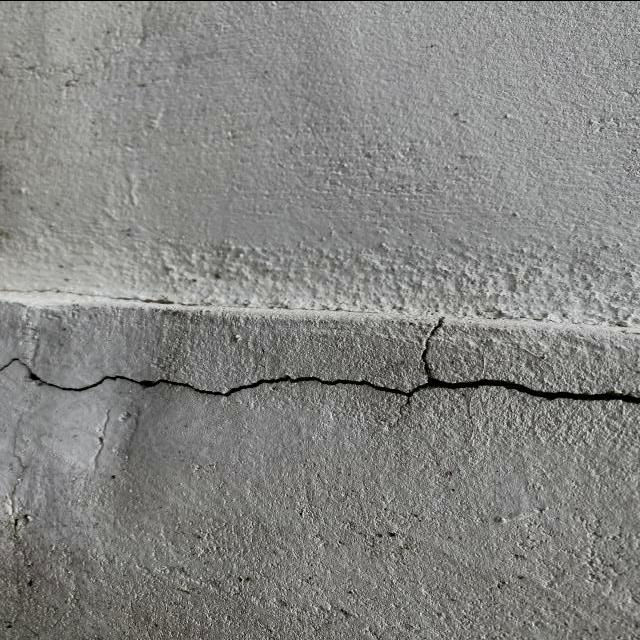SurfaceCrack: (1, 302, 639, 441)
